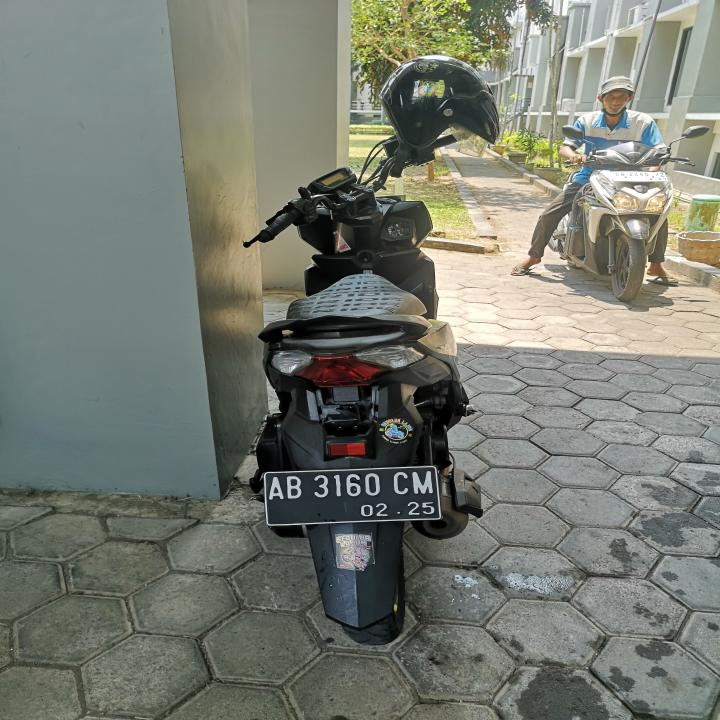plate: (261, 464, 445, 530)
